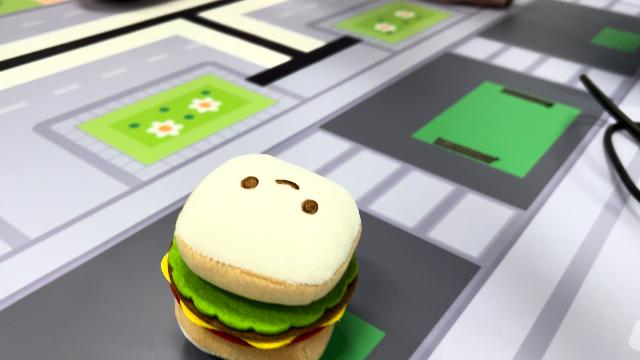sandwich: (160, 151, 364, 358)
